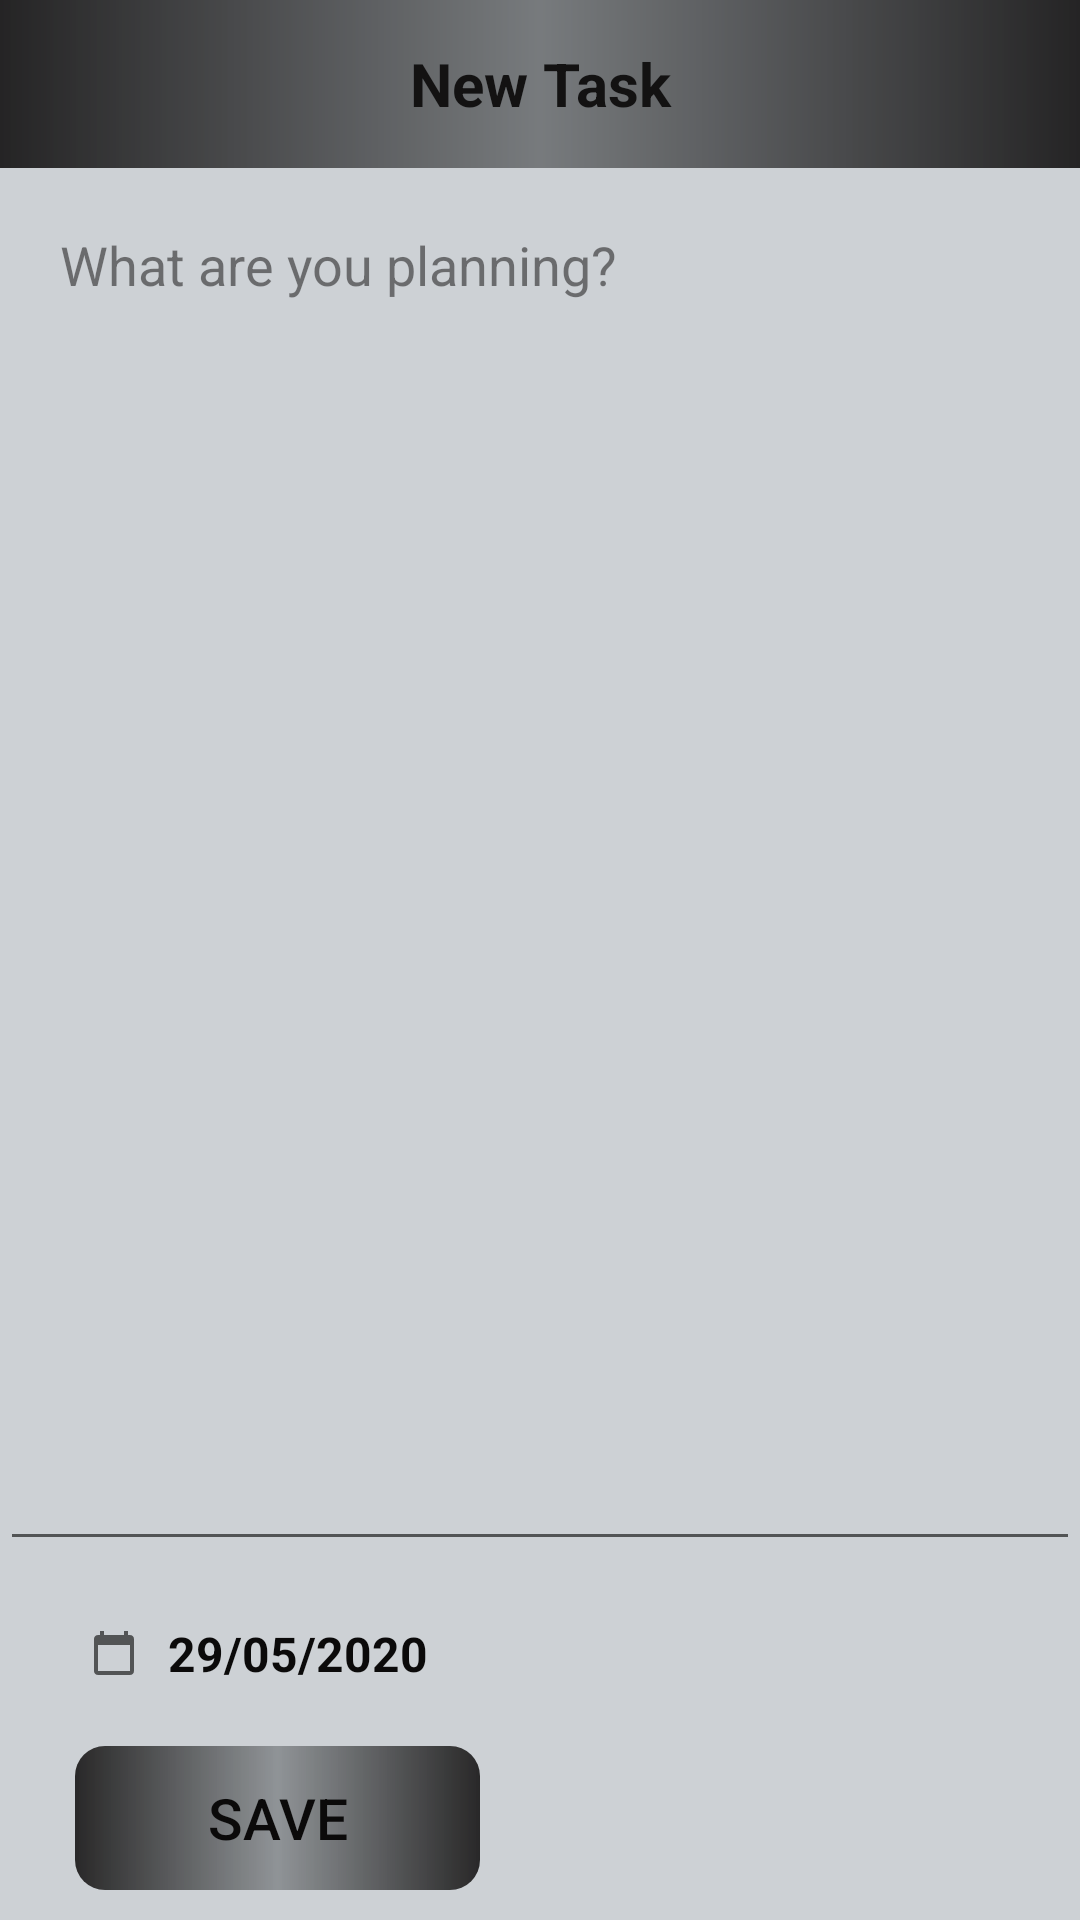

Locate icon controls on the screen. Image size 1080w x 1920h, boxes as [left=x1, top=y1, right=x2, bottom=y2].
calendar today: [left=94, top=1631, right=134, bottom=1675]
